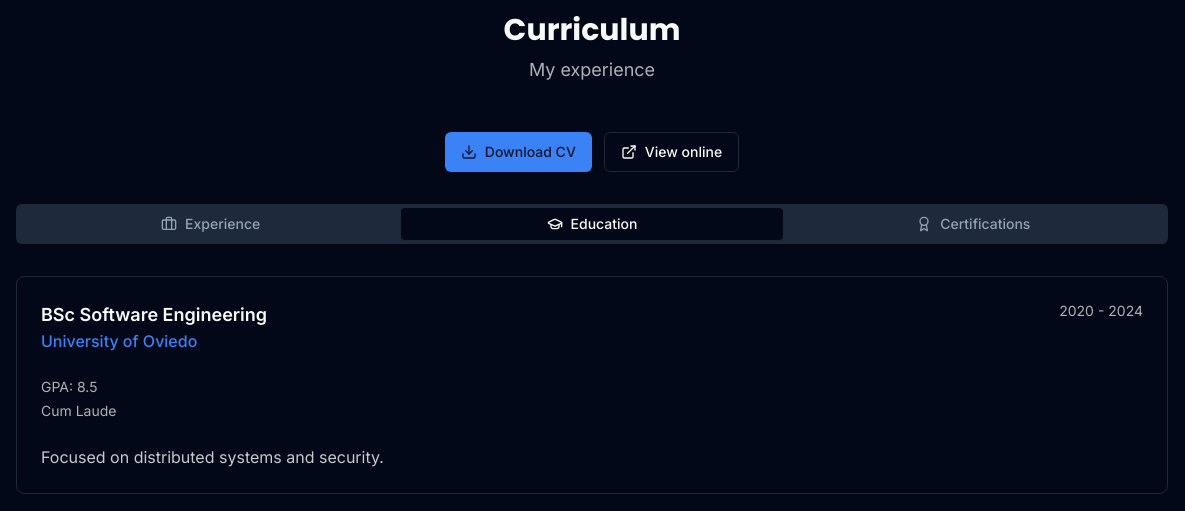
Test case: CVSection › renders a string description as a paragraph on the certifications tab
The image size is (1185, 511).
Click the tab "Certifications".
click(973, 224)  # box [783,208,1164,240]
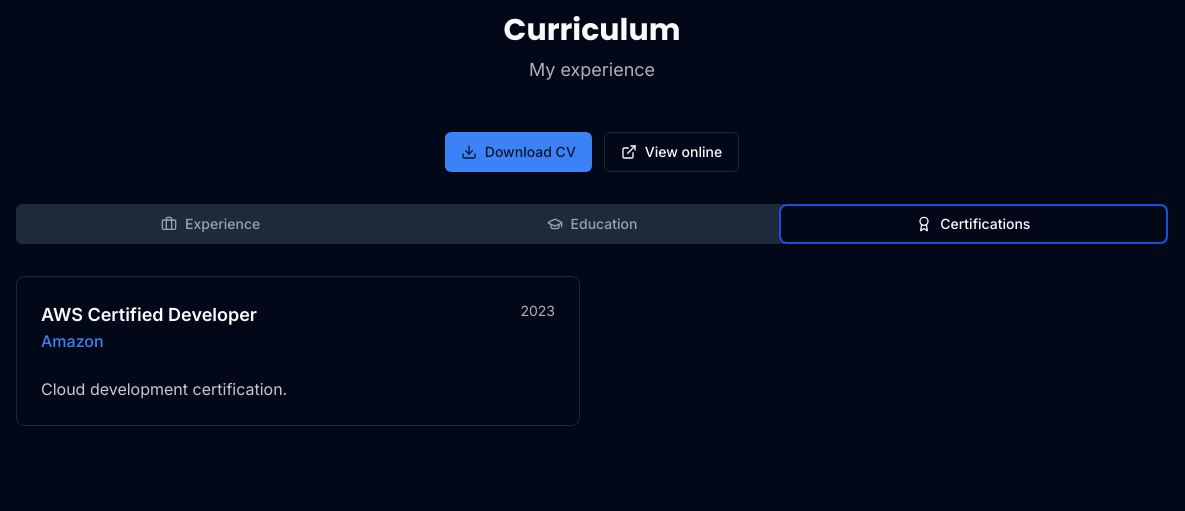
Expected: the text "Cloud development certification." is shown, [41,379,287,399]
Expected: the heading "AWS Certified Developer" is shown, [41,304,257,325]
